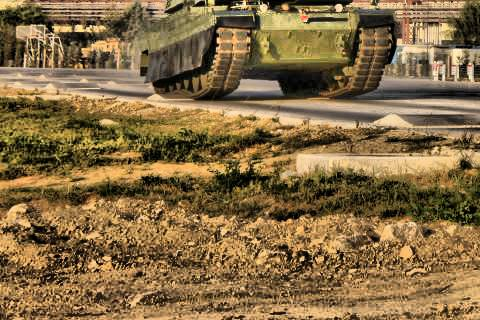tanks: (142, 1, 397, 101)
